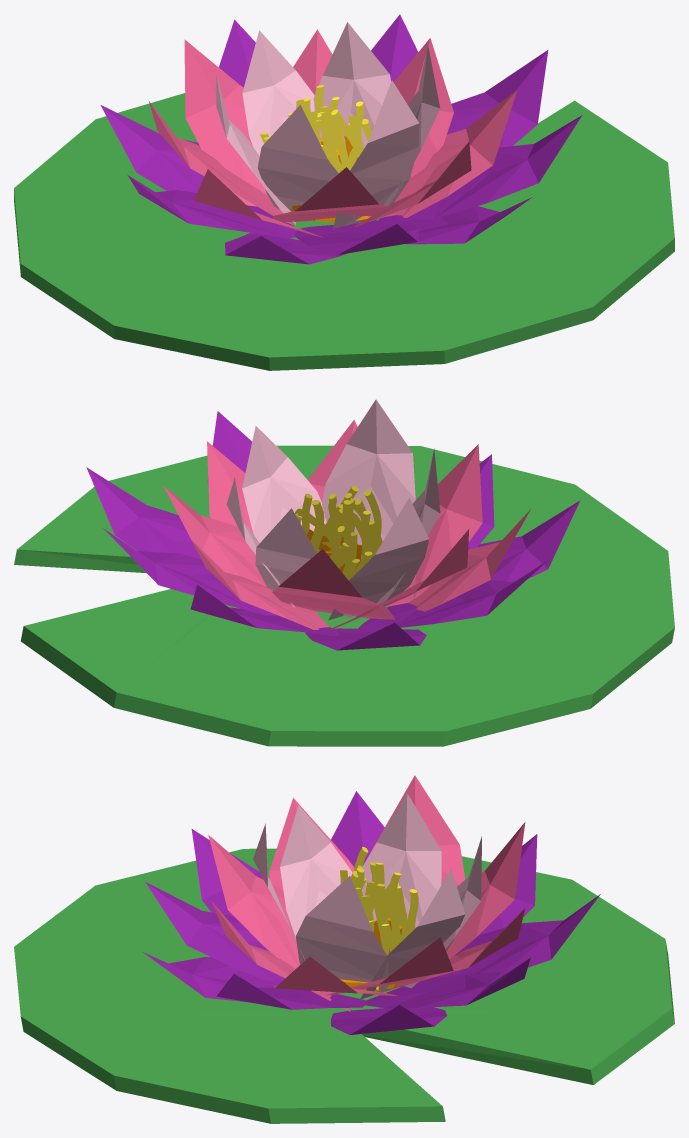
Rendered from lotus.glb.
3 renders of one model, top to bottom at view 1: azimuth 30°, elevation 25°; view 2: azimuth 150°, elevation 25°; view 3: azimuth 270°, elevation 25°, orthographic.
Visible parts, largest first — view 1: Node; view 2: Node; view 3: Node.
Boxes of the visible parts, x1,y1,x2,y2 form: Node: [14, 14, 674, 370]; Node: [14, 399, 674, 746]; Node: [14, 775, 674, 1123].
Bounding box in the file's own units: 0.8308 × 0.2612 × 0.8324.
